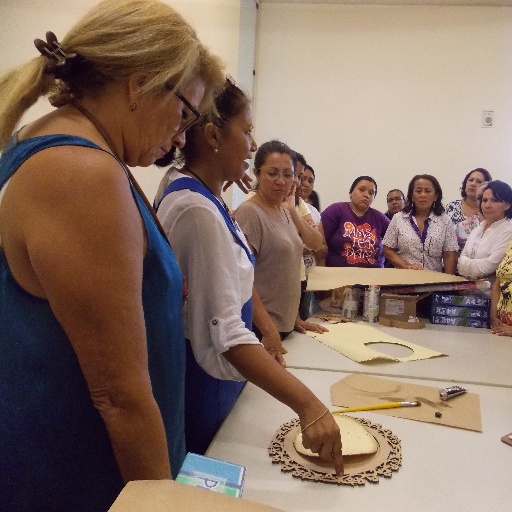hand: (298, 399, 344, 476), (259, 332, 287, 370), (220, 171, 254, 196), (294, 319, 329, 335), (277, 183, 296, 212), (487, 322, 511, 336), (487, 315, 501, 329), (403, 262, 424, 270), (306, 218, 318, 228)
